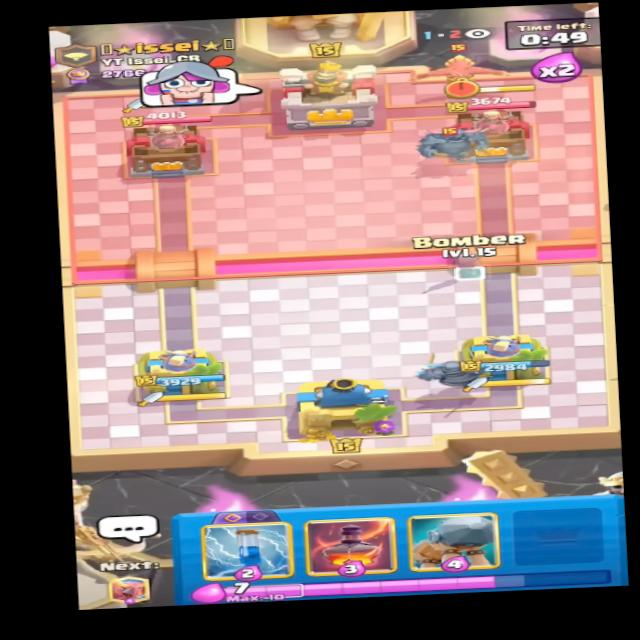pekka: (413, 120, 489, 165)
phoenix: (409, 45, 510, 89)
